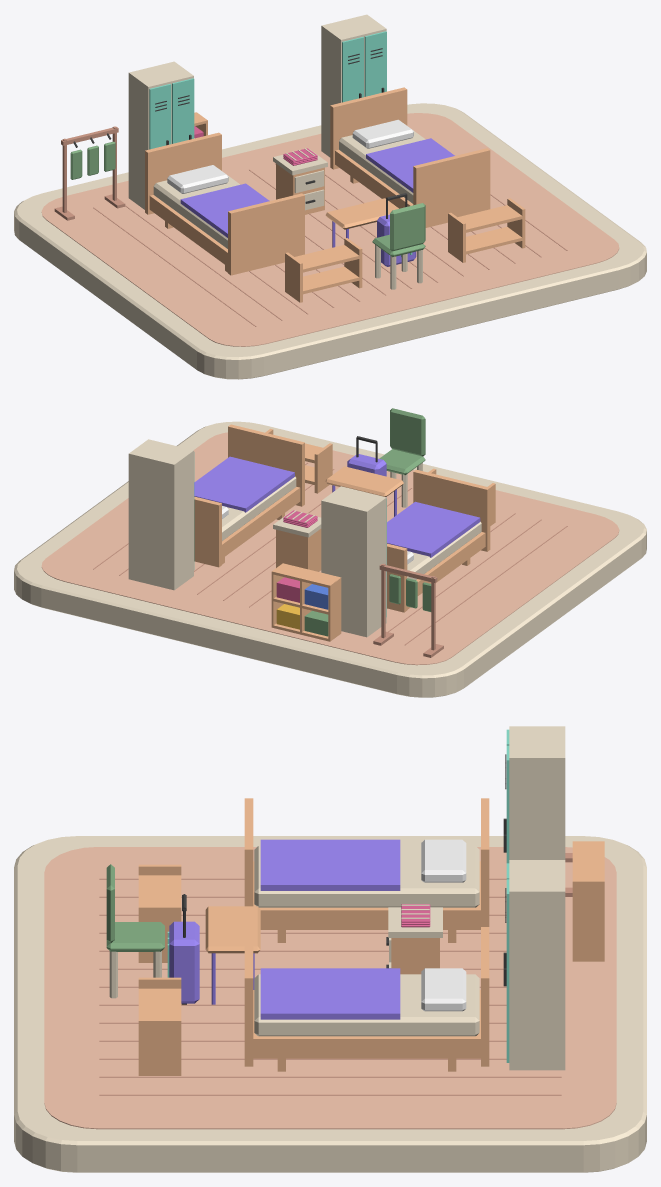
Rendered from room.fbx.
3 views of the same model, one above another, from view 1: azimuth 30°, elevation 25°; view 2: azimuth 150°, elevation 25°; view 3: azimuth 270°, elevation 25° (orthographic). The views are drawn at different scales.
Visible parts, largest first — view 1: COM-02 Floor Surface, COM-01 Rounded Base Direct, End board, End board.002, Case, Case.001, End board.003, End board.001, Blanket.001, Blanket, Backrest, Mattress (+19 smaller); view 2: COM-02 Floor Surface, COM-01 Rounded Base Direct, Case.001, Case, Blanket.001, Blanket, End board, End board.002, End board.003, Body, Backrest, Frame.001 (+15 smaller); view 3: COM-02 Floor Surface, COM-01 Rounded Base Direct, Case.001, Case, Blanket.001, Blanket, Mattress.001, Mattress, Frame.001, Frame, Cubbies divider.002, Side.003 (+20 smaller).
Part boxes in pixels (left/top/right/bottom): COM-02 Floor Surface: left=41, top=113, right=619, bottom=346; COM-01 Rounded Base Direct: left=14, top=103, right=646, bottom=379; End board: left=228, top=193, right=304, bottom=275; End board.002: left=413, top=148, right=490, bottom=227; Case: left=128, top=61, right=193, bottom=209; Case.001: left=321, top=14, right=386, bottom=157; End board.003: left=330, top=87, right=407, bottom=169; End board.001: left=145, top=132, right=221, bottom=214; Blanket.001: left=366, top=138, right=454, bottom=192; Blanket: left=180, top=183, right=269, bottom=237; Backrest: left=390, top=203, right=425, bottom=251; Mattress: left=153, top=170, right=239, bottom=248; COM-02 Floor Surface: left=41, top=432, right=619, bottom=665; COM-01 Rounded Base Direct: left=14, top=421, right=646, bottom=697; Case.001: left=128, top=439, right=193, bottom=590; Case: left=321, top=486, right=386, bottom=637; Blanket.001: left=194, top=456, right=294, bottom=512; Blanket: left=387, top=501, right=480, bottom=557; End board: left=413, top=469, right=490, bottom=551; End board.002: left=228, top=424, right=304, bottom=506; End board.003: left=194, top=496, right=221, bottom=567; Body: left=276, top=529, right=321, bottom=571; Backrest: left=390, top=408, right=425, bottom=456; Frame.001: left=222, top=487, right=300, bottom=558; COM-02 Floor Surface: left=44, top=847, right=616, bottom=1129; COM-01 Rounded Base Direct: left=14, top=836, right=646, bottom=1172; Case.001: left=509, top=860, right=565, bottom=1070; Case: left=509, top=726, right=565, bottom=859; Blanket.001: left=260, top=968, right=400, bottom=1019; Blanket: left=260, top=839, right=400, bottom=890; Mattress.001: left=254, top=974, right=479, bottom=1036; Mattress: left=254, top=845, right=479, bottom=907; Frame.001: left=253, top=990, right=480, bottom=1058; Frame: left=253, top=861, right=480, bottom=929; Cubbies divider.002: left=572, top=882, right=604, bottom=961; Side.003: left=138, top=1019, right=181, bottom=1075.
Bounding box in the file's own units: 600 × 192 × 520.
